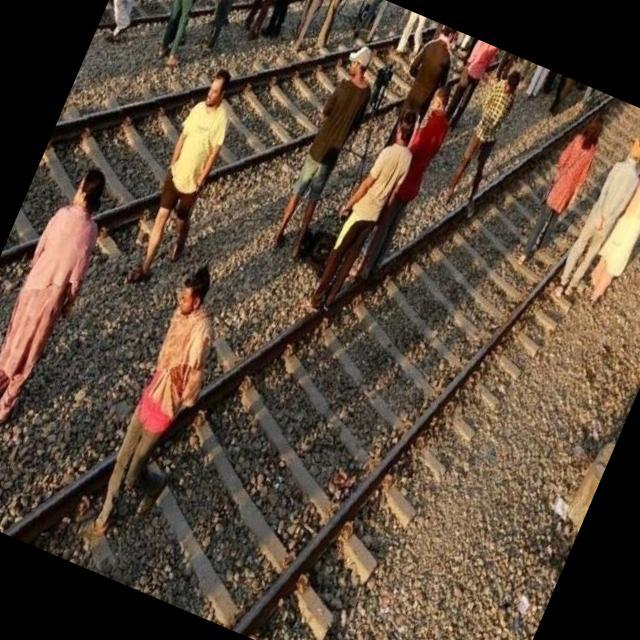person: (74, 258, 246, 558), (0, 151, 128, 439), (110, 57, 258, 303), (260, 36, 391, 268), (297, 101, 431, 327), (350, 77, 466, 298), (513, 104, 614, 274), (549, 128, 640, 308), (436, 60, 534, 224), (578, 147, 640, 316), (141, 0, 234, 70), (93, 0, 179, 49)
